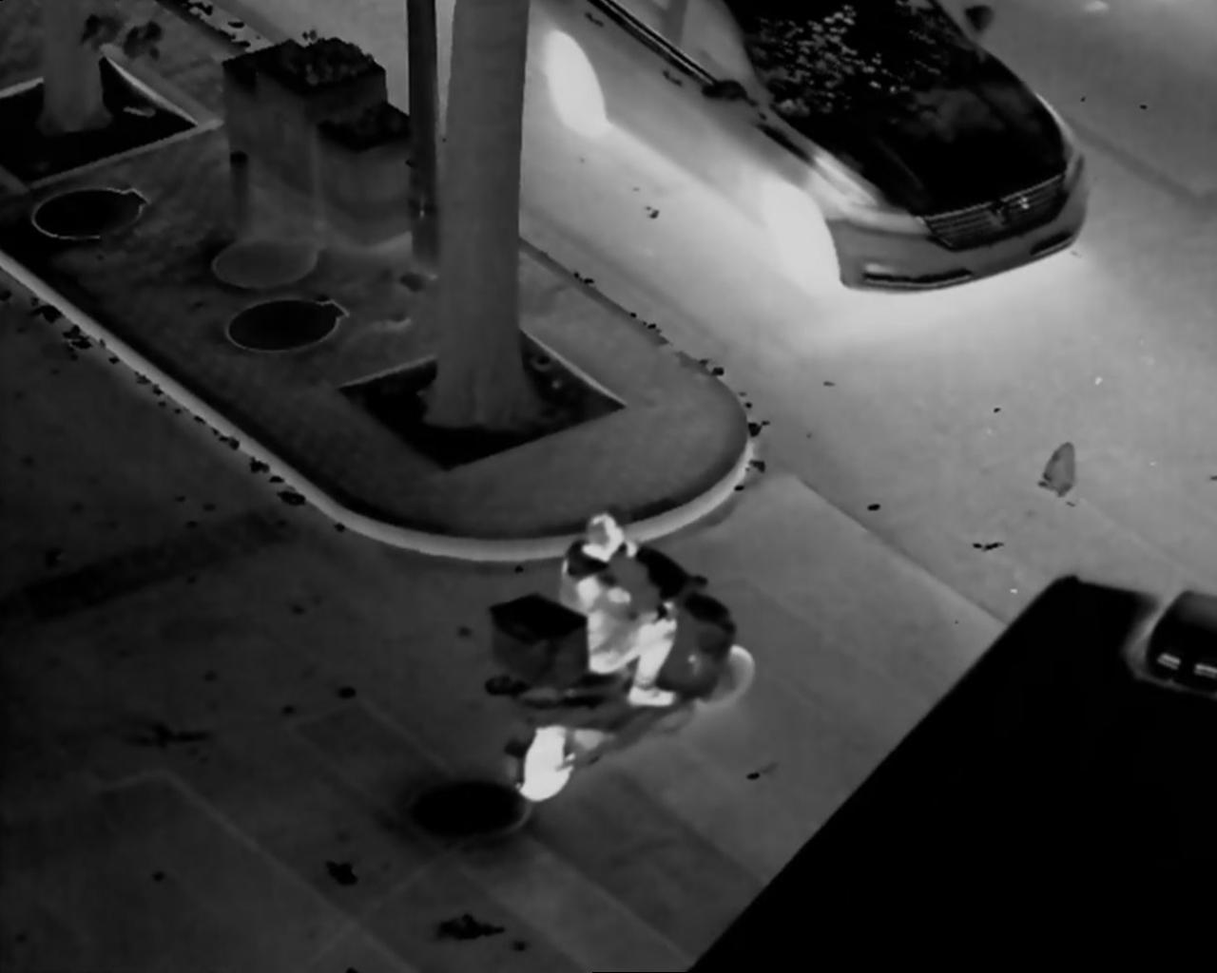person: (546, 505, 689, 718)
